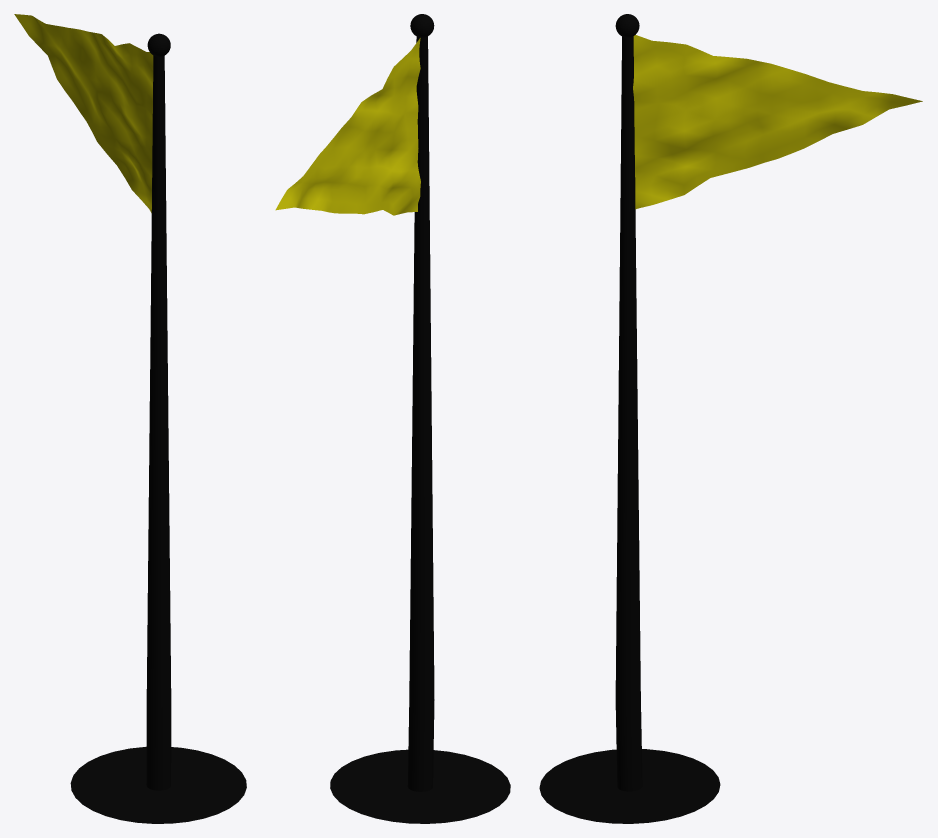
The model's file is Flag.dae.
3 views of the same model, side by side, from view 1: azimuth 30°, elevation 25°; view 2: azimuth 150°, elevation 25°; view 3: azimuth 270°, elevation 25° (orthographic). The views are drawn at different scales.
Parts seen in each view (by area): view 1: Cylinder, Plane, Sphere; view 2: Cylinder, Plane, Sphere; view 3: Plane, Cylinder.
Boxes of the visible parts, left/top/right/bottom form: Cylinder: left=70, top=55, right=246, bottom=823; Plane: left=14, top=14, right=153, bottom=212; Sphere: left=147, top=33, right=170, bottom=56; Cylinder: left=330, top=36, right=510, bottom=823; Plane: left=275, top=38, right=420, bottom=215; Sphere: left=410, top=14, right=434, bottom=37; Plane: left=633, top=35, right=922, bottom=209; Cylinder: left=539, top=36, right=720, bottom=823.
Bounding box in the file's own units: 0.9489 × 2.01 × 4.47.
